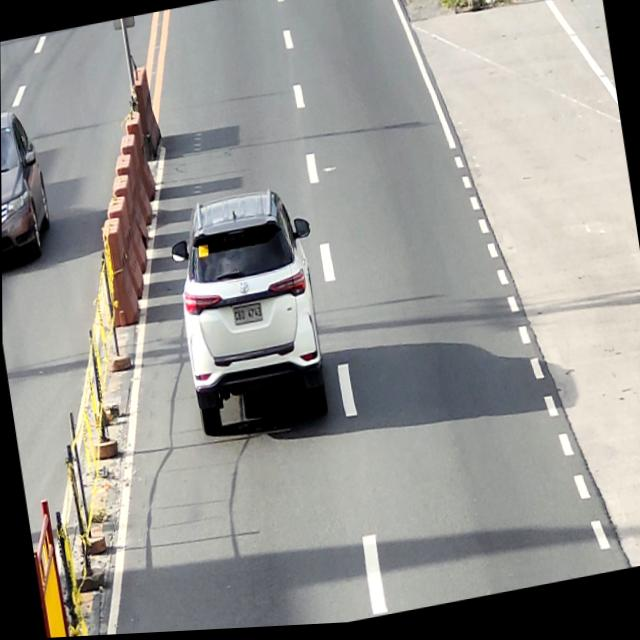Car: (164, 183, 337, 443), (1, 104, 55, 265)
License-Plate: (231, 304, 263, 329)
